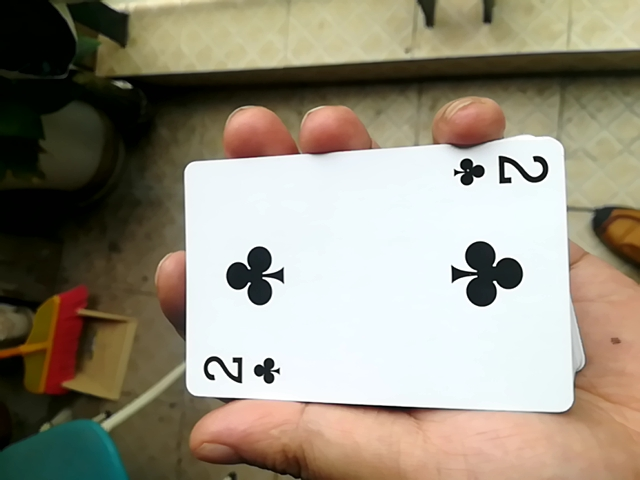mh 2: (173, 137, 572, 416)
